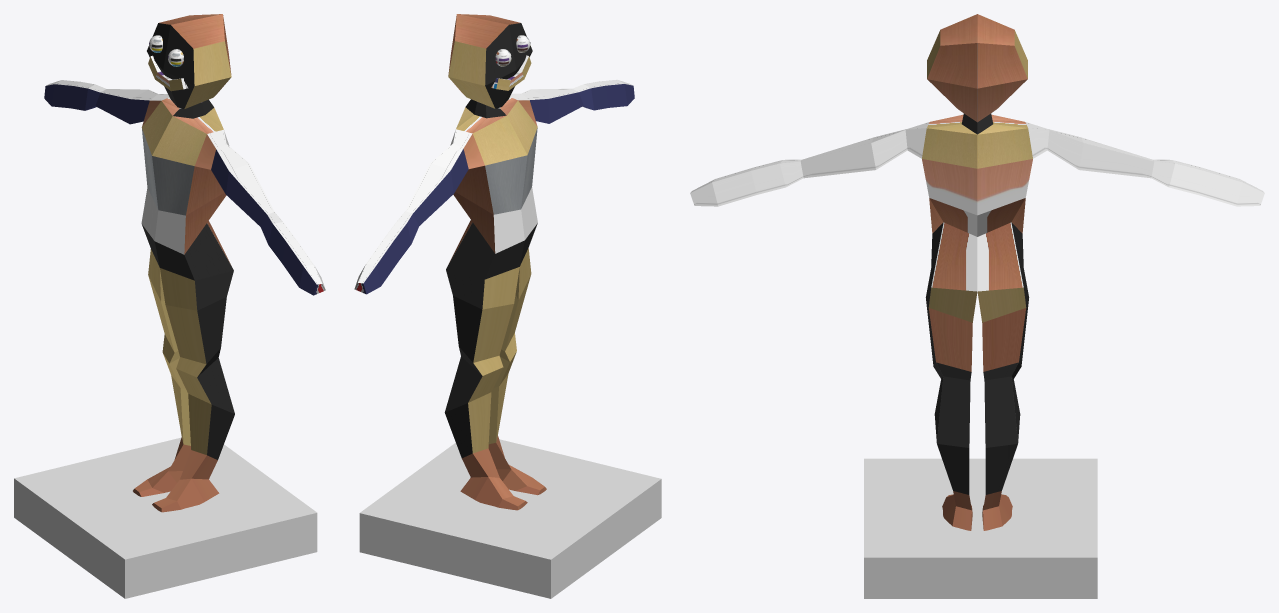
File: Character.gltf
The picture shows the model from 3 angles, left to right: view 1: azimuth 30°, elevation 25°; view 2: azimuth 150°, elevation 25°; view 3: azimuth 270°, elevation 25°; orthographic projection. The views are drawn at different scales.
Parts seen in each view (by area): view 1: Skin, Cube; view 2: Skin, Cube; view 3: Skin, Cube.
Boxes of the visible parts, x1=… form: Skin: x1=44, y1=14, x2=325, y2=512; Cube: x1=14, y1=437, x2=317, y2=598; Skin: x1=354, y1=14, x2=634, y2=510; Cube: x1=359, y1=439, x2=661, y2=598; Skin: x1=690, y1=14, x2=1264, y2=530; Cube: x1=864, y1=458, x2=1097, y2=598.
Size of the model in its own units: 2 by 5.07 by 4.92.
1 material, 1 textured.
